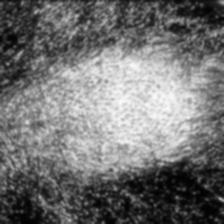Toxin: (0, 37, 213, 185)
